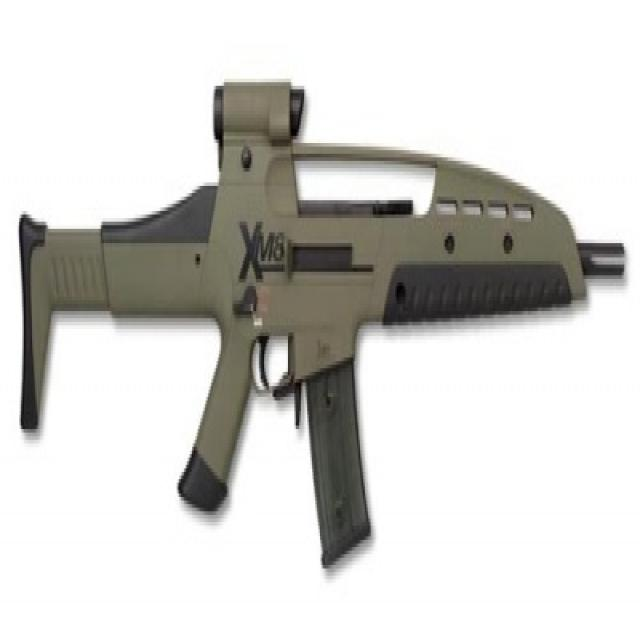rifle: (9, 77, 635, 585)
